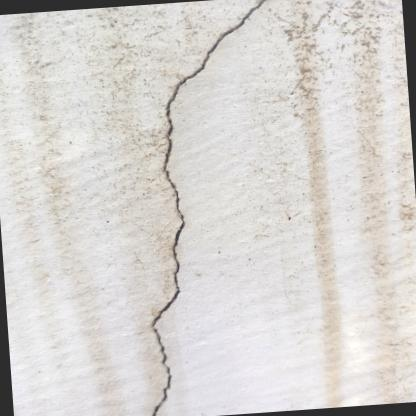crack: (148, 0, 270, 416)
